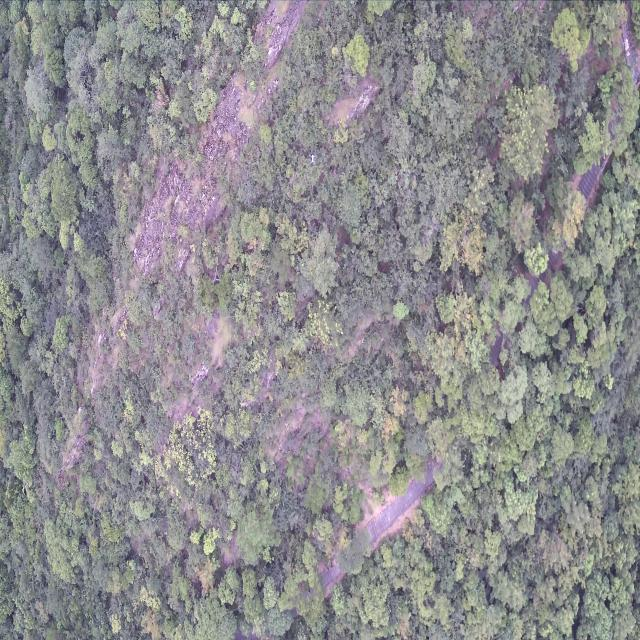UAV: (309, 154, 316, 164)
